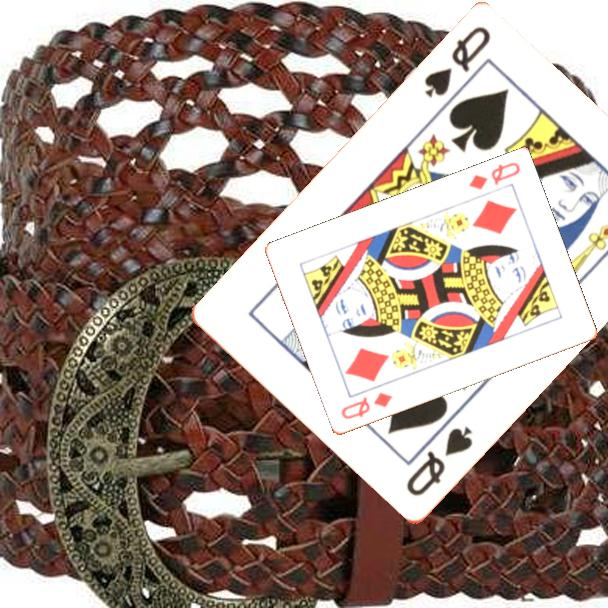d12: (465, 159, 523, 193), (337, 389, 395, 422)
s12: (420, 23, 494, 102), (402, 423, 476, 500)
